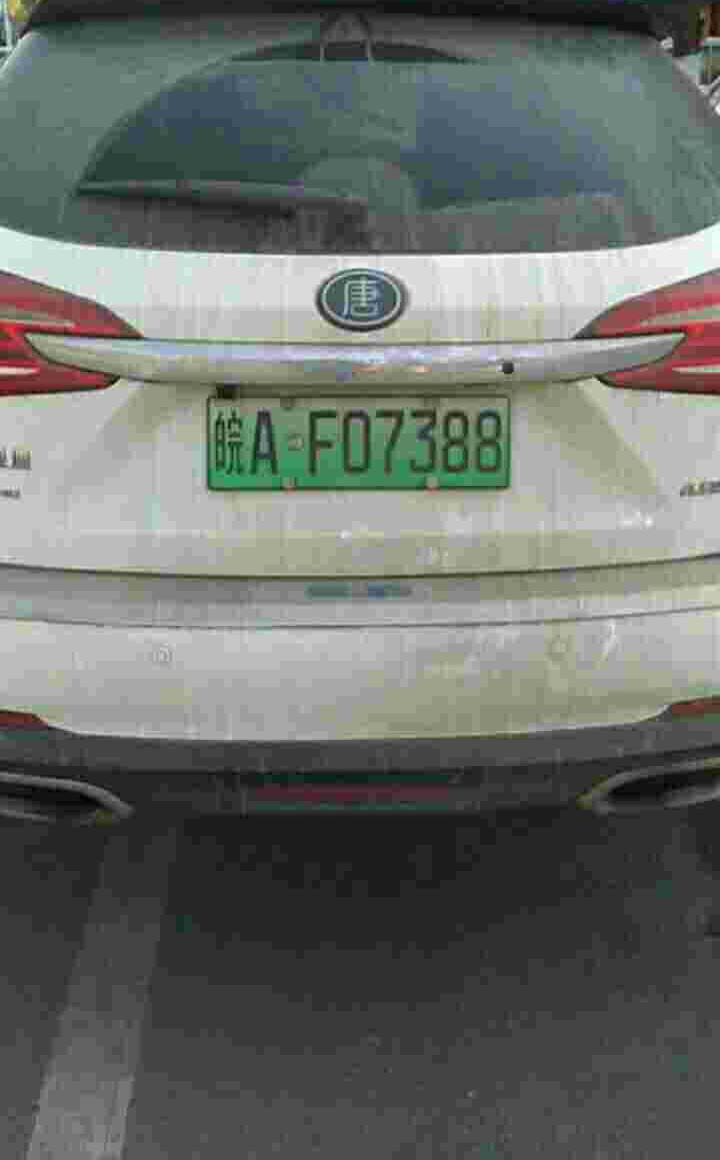car_id: (205, 395, 511, 490)
